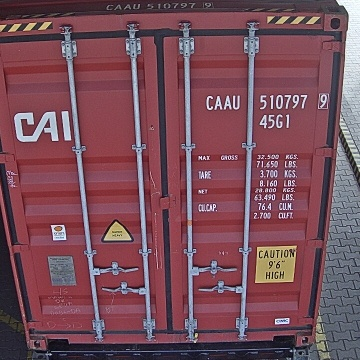serial_id: (206, 93, 329, 109)
